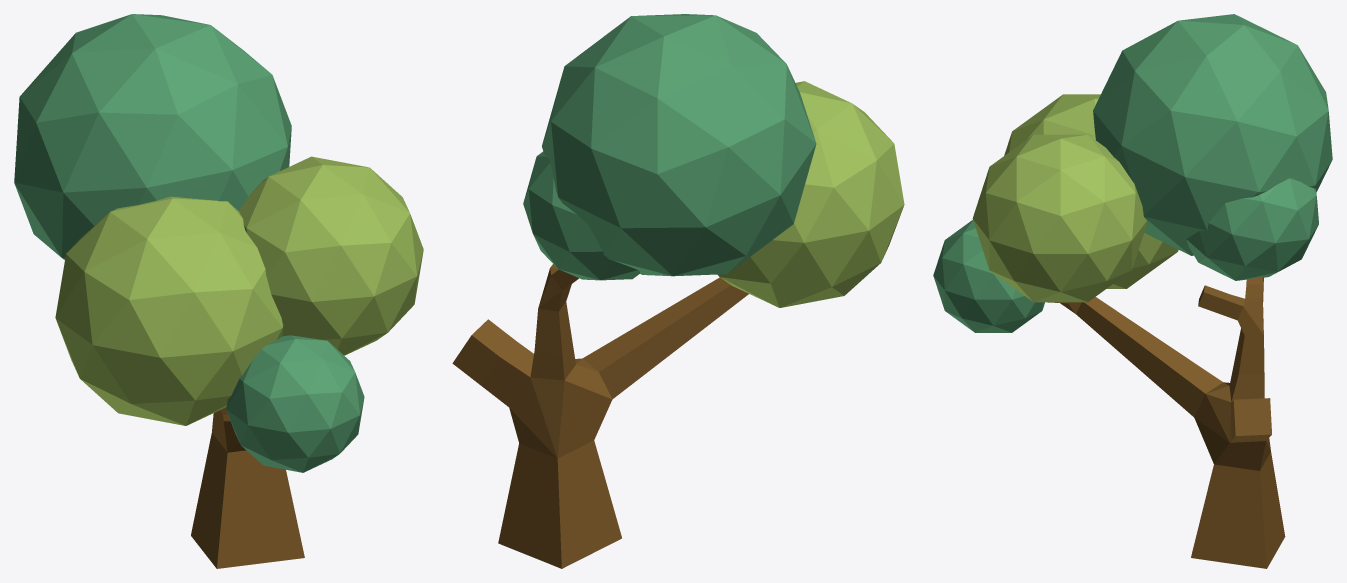
Rendered from trees.fbx.
The picture shows the model from 3 angles, left to right: view 1: azimuth 30°, elevation 25°; view 2: azimuth 150°, elevation 25°; view 3: azimuth 270°, elevation 25°; orthographic projection. The views are drawn at different scales.
Visible parts, largest first — view 1: Icosphere.009; view 2: Icosphere.009; view 3: Icosphere.009.
Part boxes in pixels (x1,y1,x2,y2): Icosphere.009: (14,14,423,568); Icosphere.009: (452,14,904,568); Icosphere.009: (933,14,1332,568).
Bounding box in the file's own units: 476 × 718 × 545.
